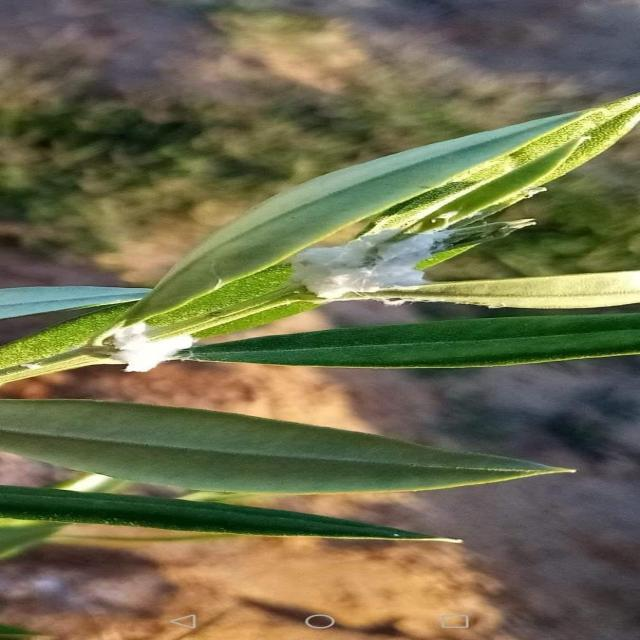Psyllid: (289, 213, 493, 305), (76, 321, 196, 372)
